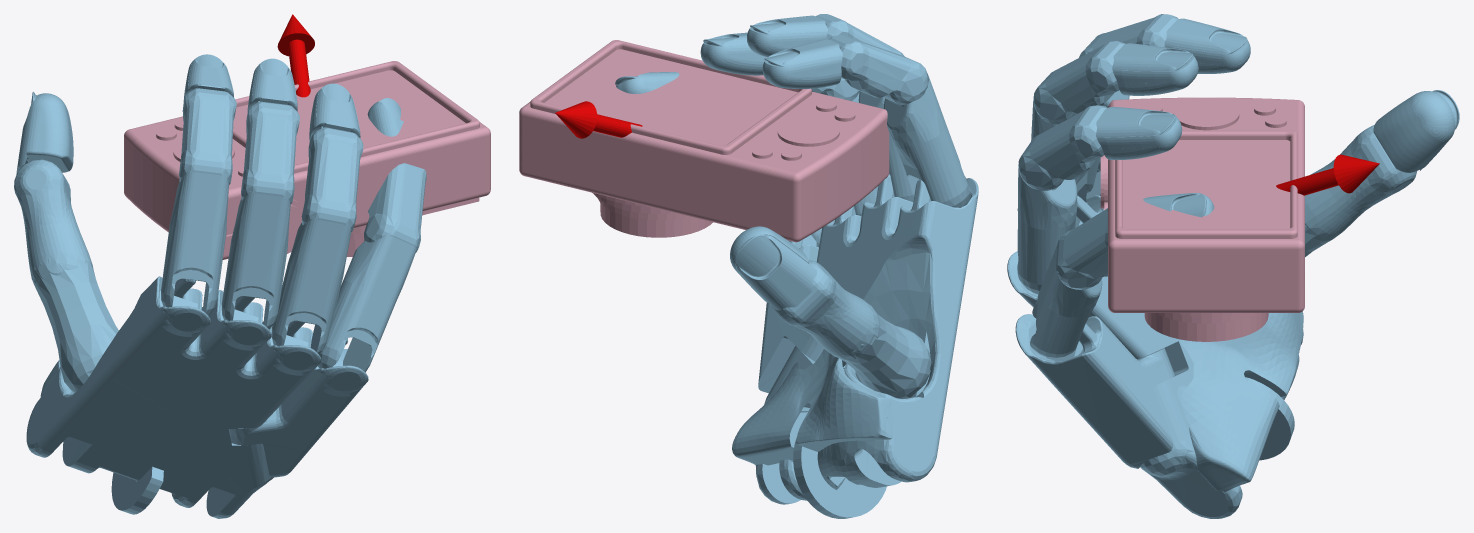
3 views of the same model, side by side, from view 1: azimuth 30°, elevation 25°; view 2: azimuth 150°, elevation 25°; view 3: azimuth 270°, elevation 25° (orthographic). The views are drawn at different scales.
Visible parts, largest first — view 1: world, camera.stl; view 2: world, camera.stl; view 3: world, camera.stl.
Part boxes in pixels (x1=…): world: x1=14, y1=14, x2=426, y2=518; camera.stl: x1=124, y1=61, x2=490, y2=259; world: x1=555, y1=14, x2=978, y2=518; camera.stl: x1=519, y1=40, x2=889, y2=242; world: x1=1007, y1=14, x2=1459, y2=518; camera.stl: x1=1100, y1=97, x2=1304, y2=341.
Bounding box in the file's own units: 0.1576 × 0.1754 × 0.1487.
